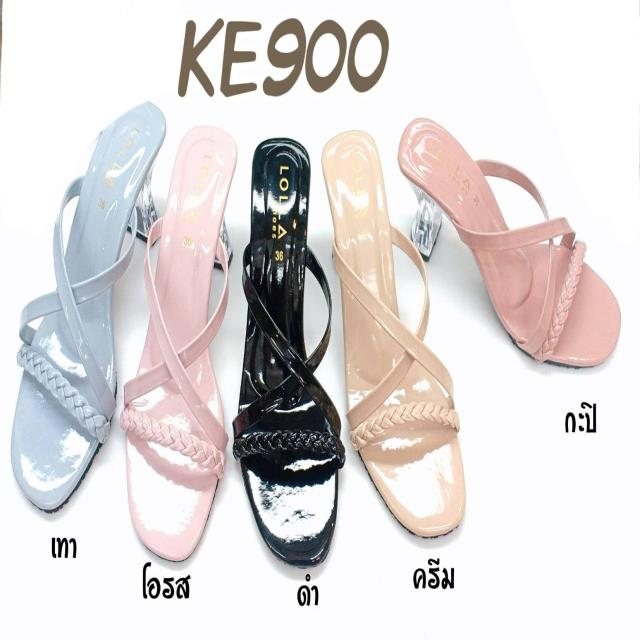black: (240, 127, 340, 564)
cream: (322, 126, 462, 529)
grey: (13, 101, 166, 509)
kapi: (398, 114, 622, 367)
orot: (123, 122, 230, 556)
